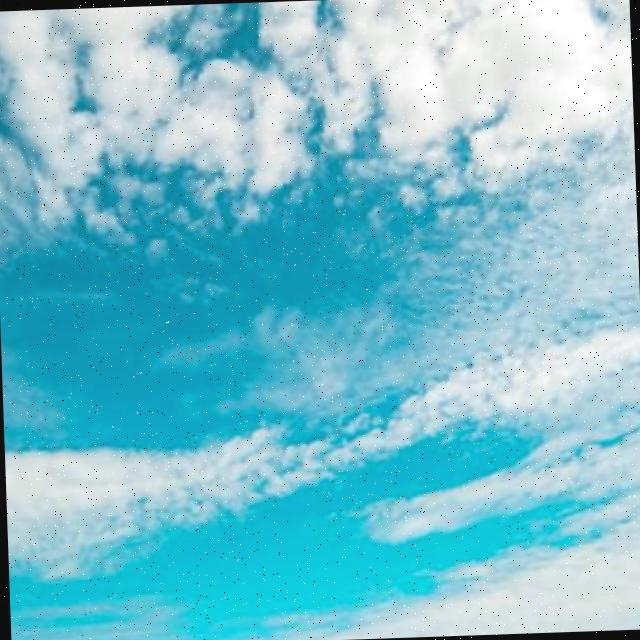As: (1, 1, 640, 606)
